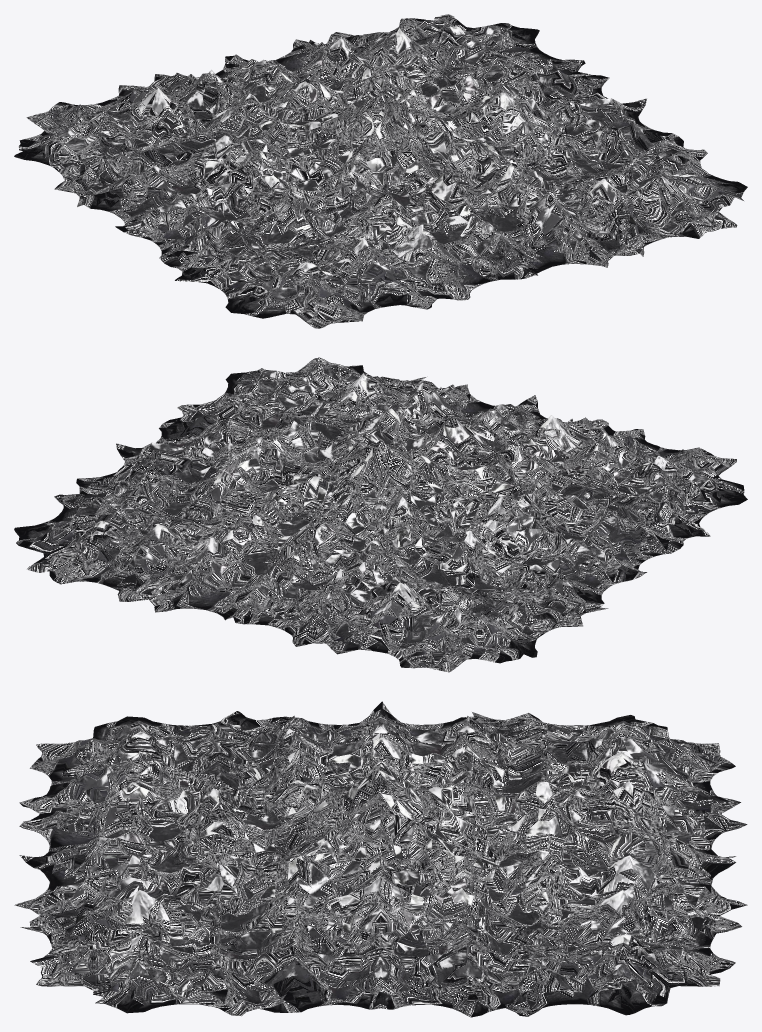
The model's file is range_snow.glb.
3 views of the same model, one above another, from view 1: azimuth 30°, elevation 25°; view 2: azimuth 150°, elevation 25°; view 3: azimuth 270°, elevation 25° (orthographic). The views are drawn at different scales.
Size of the model in its own units: 1.88 by 0.2551 by 1.9.
1 material, 1 textured.
